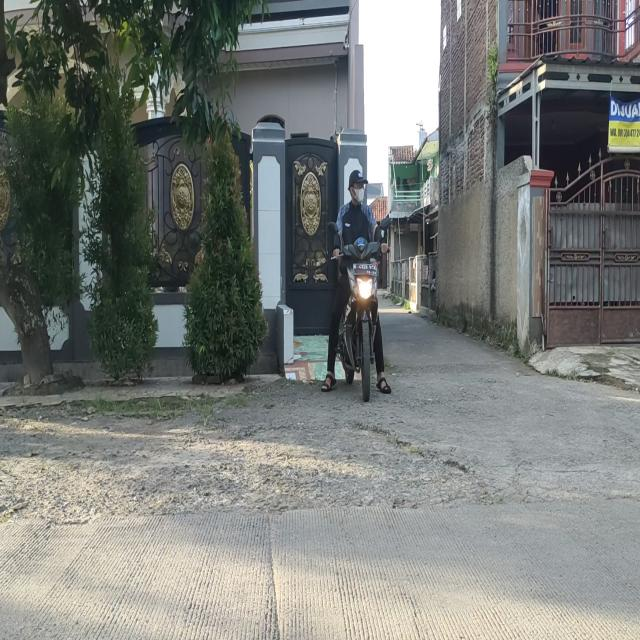no-helmet: (349, 169, 368, 205)
